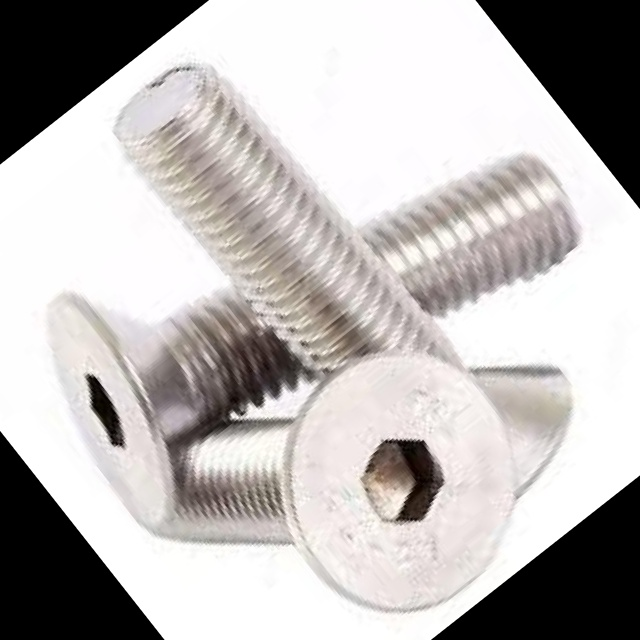allen: (226, 304, 574, 640), (0, 279, 229, 541)
